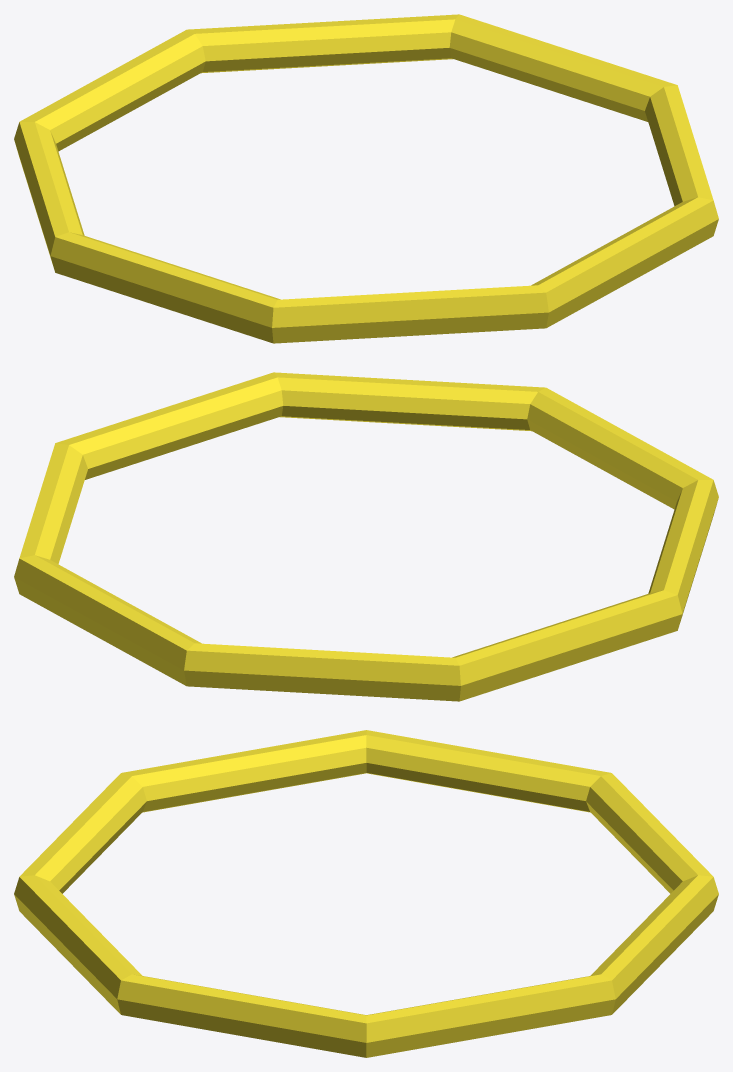
File: Halo.glb
The picture shows the model from 3 angles, top to bottom: view 1: azimuth 30°, elevation 25°; view 2: azimuth 150°, elevation 25°; view 3: azimuth 270°, elevation 25°; orthographic projection. The views are drawn at different scales.
Parts seen in each view (by area): view 1: Halo_Circle.010; view 2: Halo_Circle.010; view 3: Halo_Circle.010.
Boxes of the visible parts, x1=… form: Halo_Circle.010: x1=14, y1=14, x2=718, y2=343; Halo_Circle.010: x1=14, y1=372, x2=718, y2=701; Halo_Circle.010: x1=14, y1=730, x2=718, y2=1057.
Bounding box in the file's own units: 9.17 × 0.5497 × 9.17.
